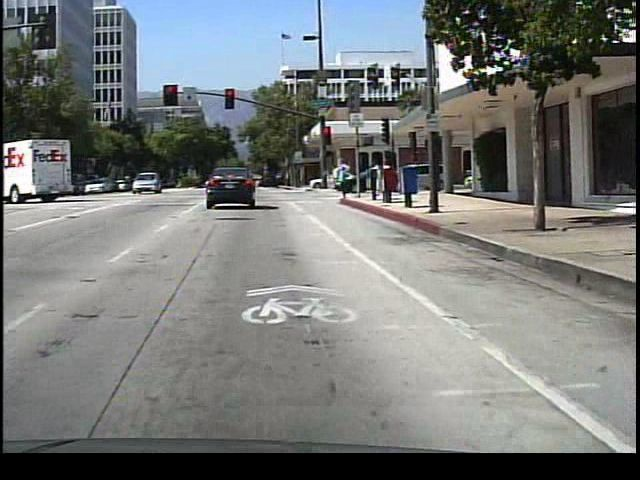person: (332, 152, 355, 204), (364, 158, 381, 196)
